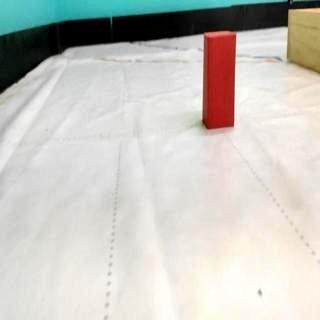redbox: (202, 31, 236, 129)
